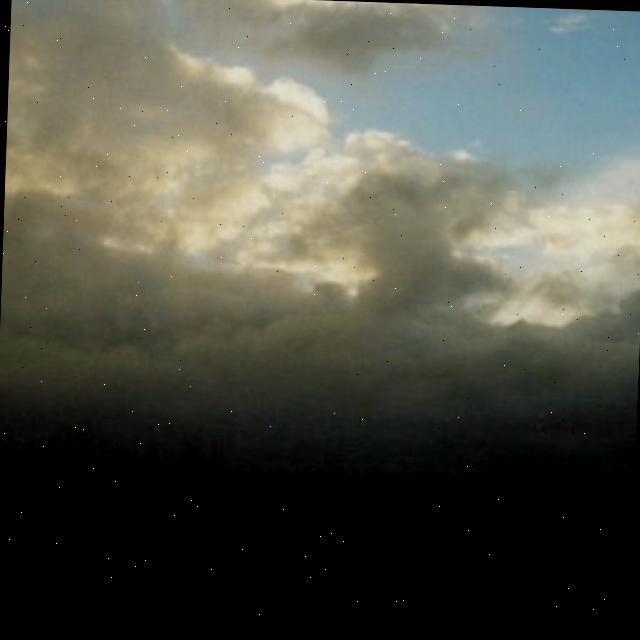Sc: (1, 1, 640, 479)
